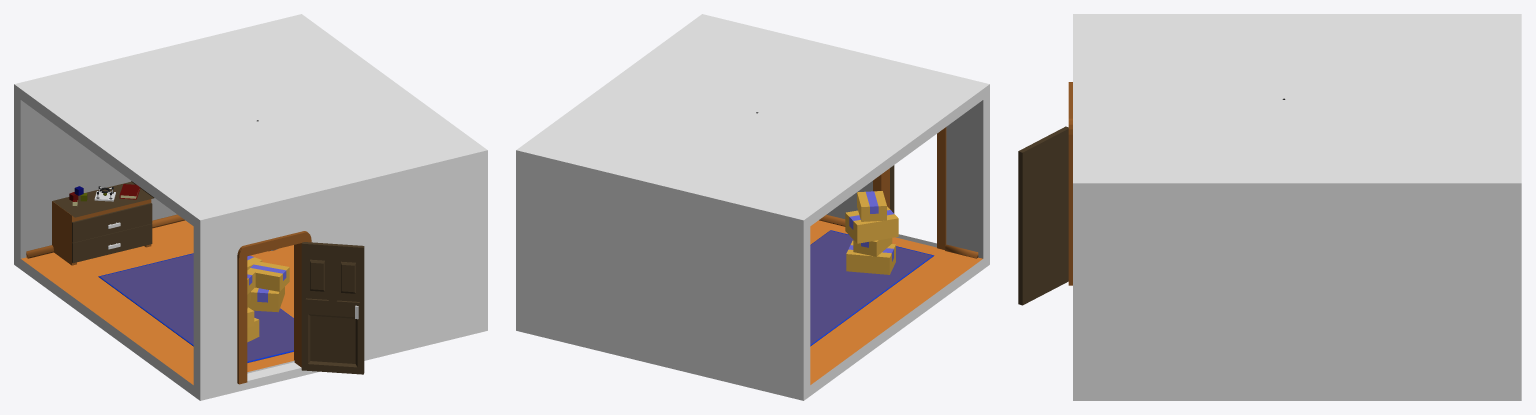
Rendered from Комната1.fbx.
3 renders of one model, left to right at view 1: azimuth 30°, elevation 25°; view 2: azimuth 150°, elevation 25°; view 3: azimuth 270°, elevation 25°, orthographic. The views are drawn at different scales.
Visible parts, largest first — view 1: Cube.095; view 2: Cube.095; view 3: Cube.095.
Boxes of the visible parts, box(x1,y1,x2,y2) form: Cube.095: box(14, 14, 487, 400); Cube.095: box(516, 14, 989, 400); Cube.095: box(1018, 14, 1521, 400).
Bounding box in the file's own units: 792 × 475 × 996.
